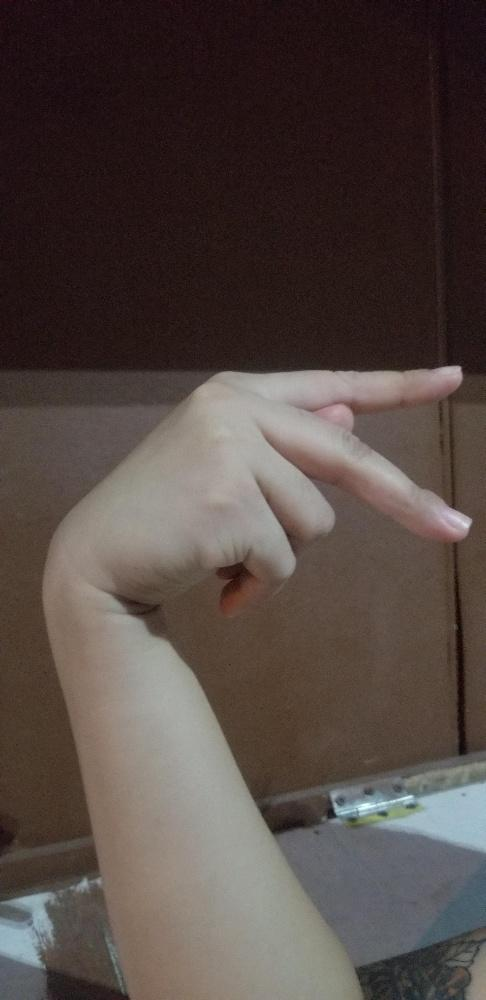k: (32, 360, 472, 621)
